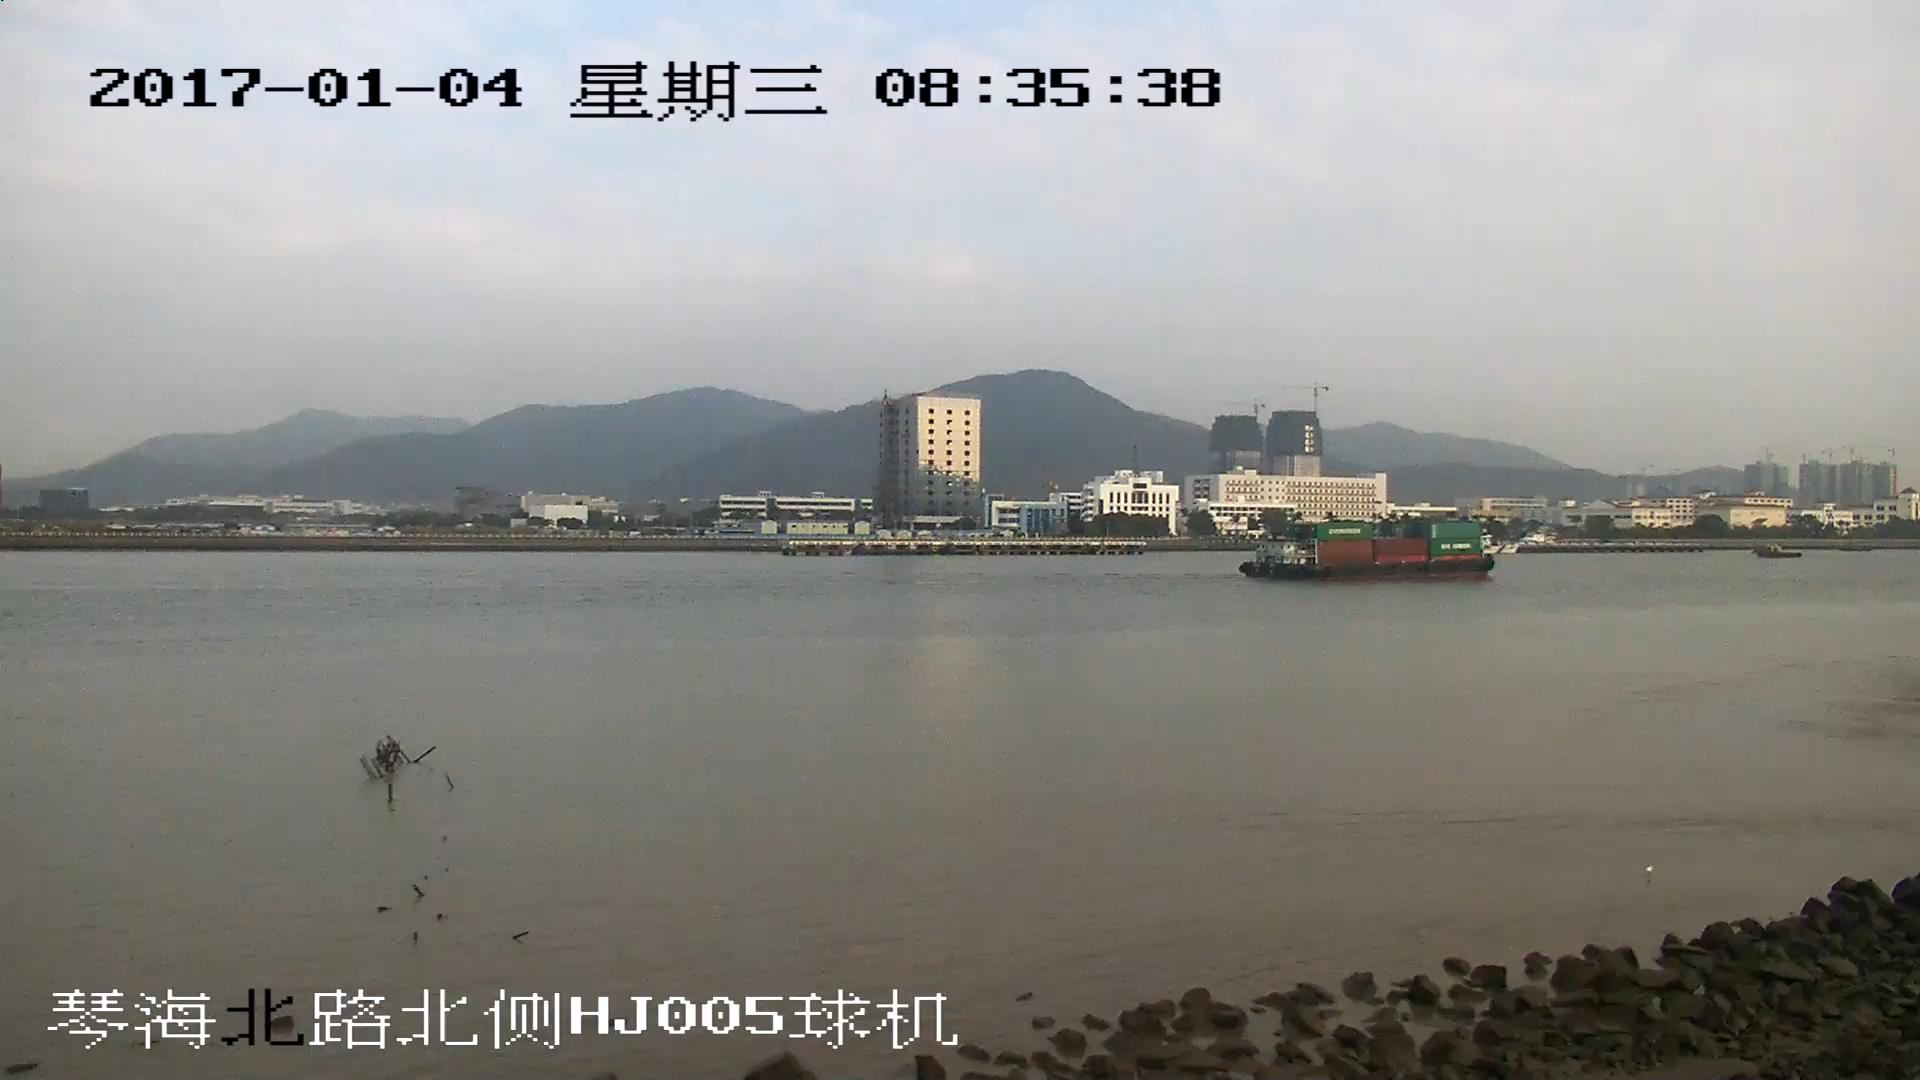container ship: (1249, 521, 1491, 582)
